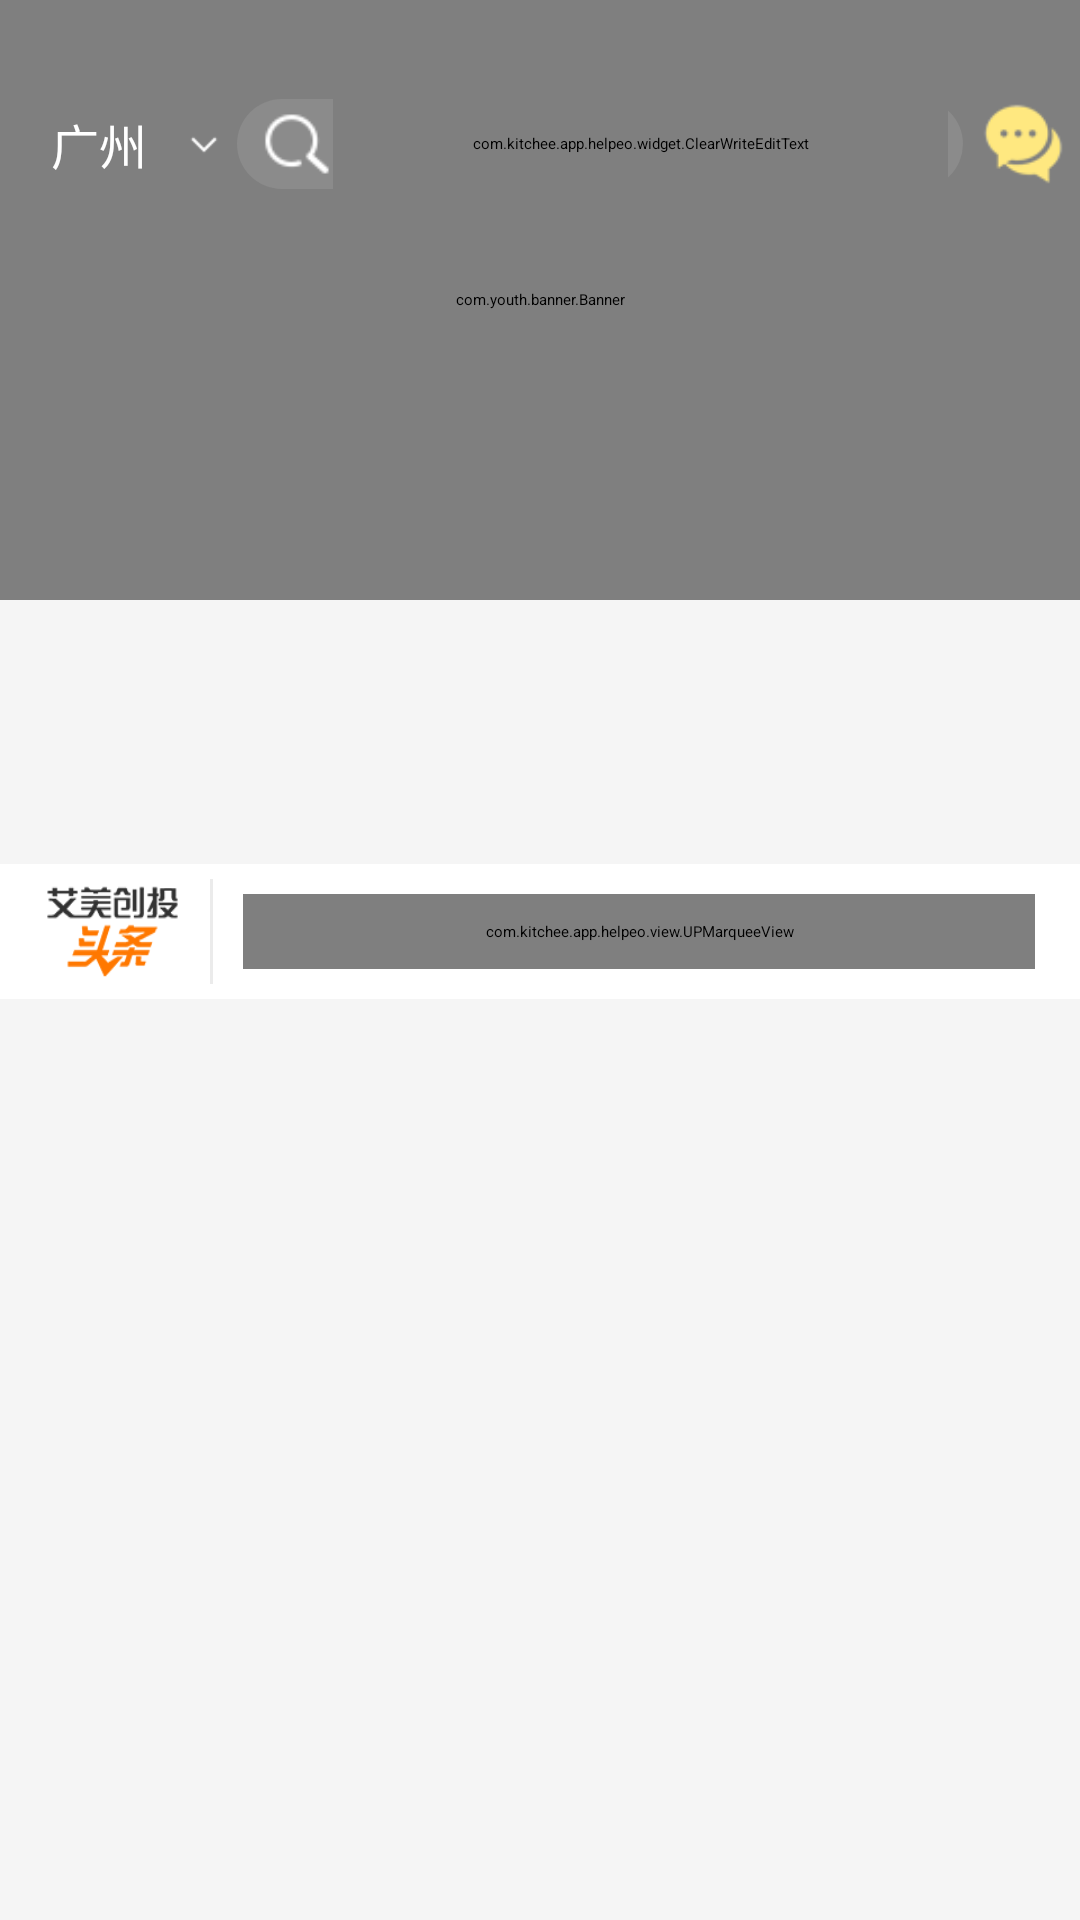

Named icons in this screenshot (1080px x 1920px) and their bounding boxes, (x1, y1, x2, y2):
home search: (265, 114, 329, 174)
ligeance dynamic chat: (985, 105, 1062, 183)
